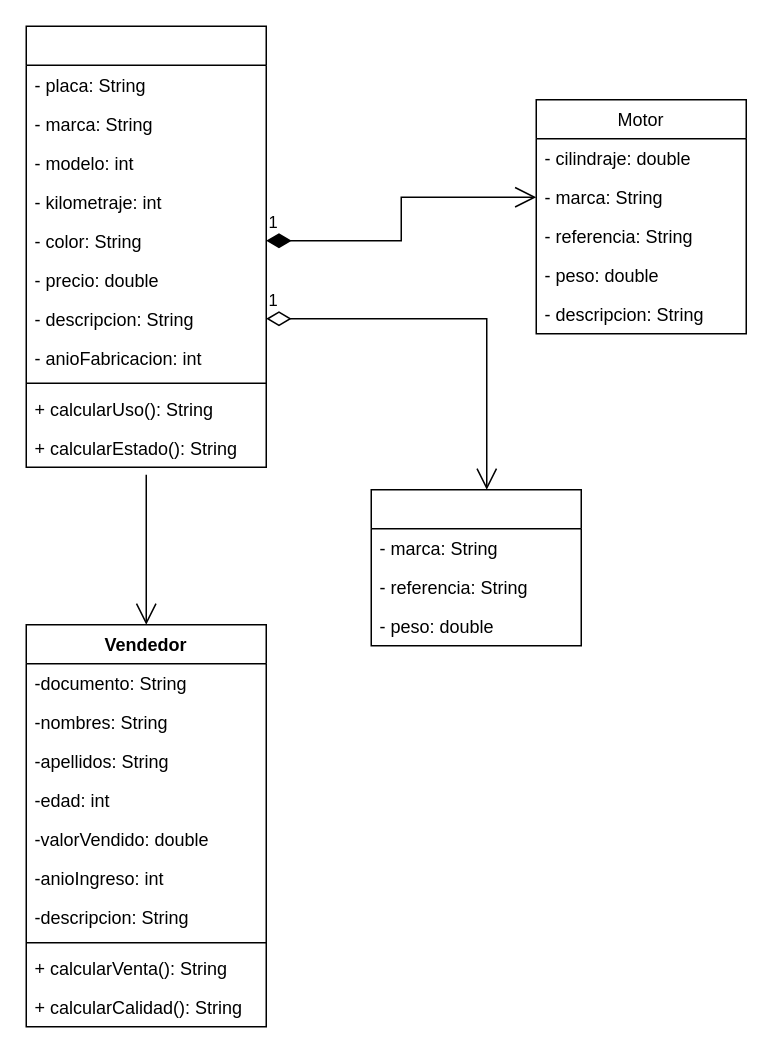
Image size: 773x1058. Some labels were removed from this diagram. Each missing label, with the box of its shape:
Automovil: (25, 25, 266, 467)
Llanta: (370, 488, 581, 646)
